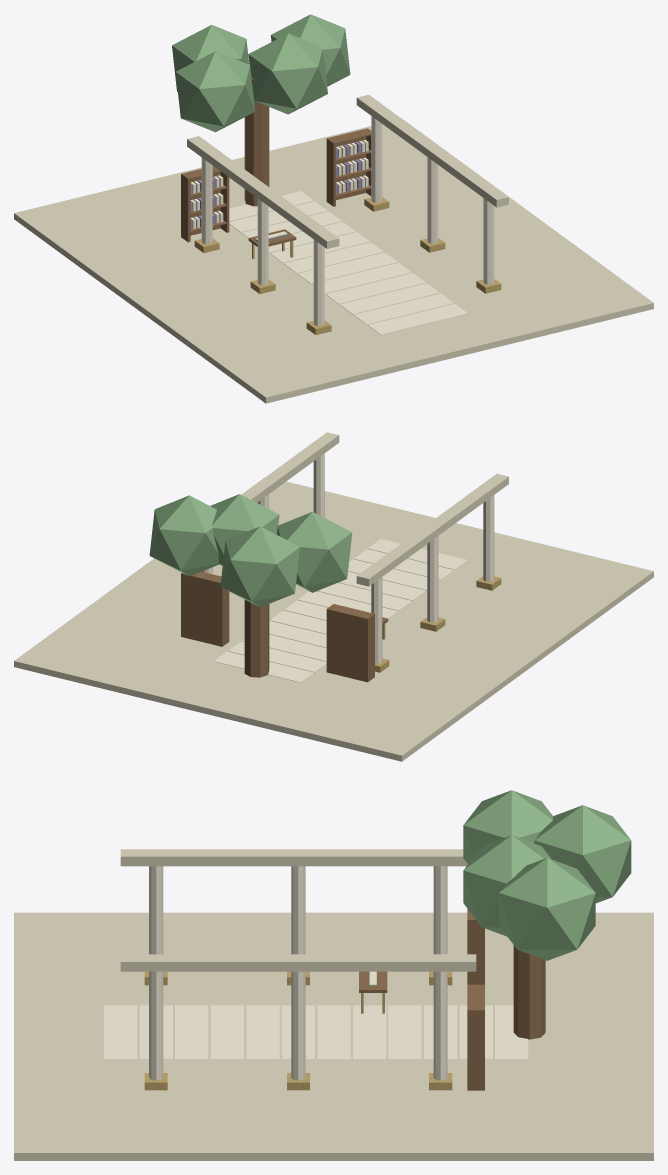
File: grove.glb
The picture shows the model from 3 angles, top to bottom: view 1: azimuth 30°, elevation 25°; view 2: azimuth 150°, elevation 25°; view 3: azimuth 270°, elevation 25°; orthographic projection. The views are drawn at different scales.
Visible parts, largest first — view 1: Outing_stone, Outing_ivory, Outing_leaf, Outing_wood, Outing_gold, Outing_paper, Outing_purple; view 2: Outing_stone, Outing_leaf, Outing_ivory, Outing_wood, Outing_gold; view 3: Outing_stone, Outing_ivory, Outing_leaf, Outing_wood, Outing_gold.
Boxes of the visible parts, x1,y1,x2,y2 form: Outing_stone: [14, 94, 653, 403]; Outing_ivory: [201, 116, 494, 334]; Outing_leaf: [172, 14, 350, 241]; Outing_wood: [181, 78, 371, 246]; Outing_gold: [194, 197, 501, 334]; Outing_paper: [190, 140, 368, 240]; Outing_purple: [190, 141, 360, 239]; Outing_stone: [14, 432, 653, 761]; Outing_leaf: [149, 494, 352, 607]; Outing_ivory: [202, 453, 494, 682]; Outing_wood: [181, 571, 388, 682]; Outing_gold: [375, 576, 501, 672]; Outing_stone: [14, 849, 653, 1160]; Outing_ivory: [104, 866, 528, 1080]; Outing_leaf: [369, 790, 631, 986]; Outing_wood: [359, 909, 545, 1090]; Outing_gold: [144, 971, 452, 1090].
Bounding box in the file's own units: 16 × 6.84 × 18.
